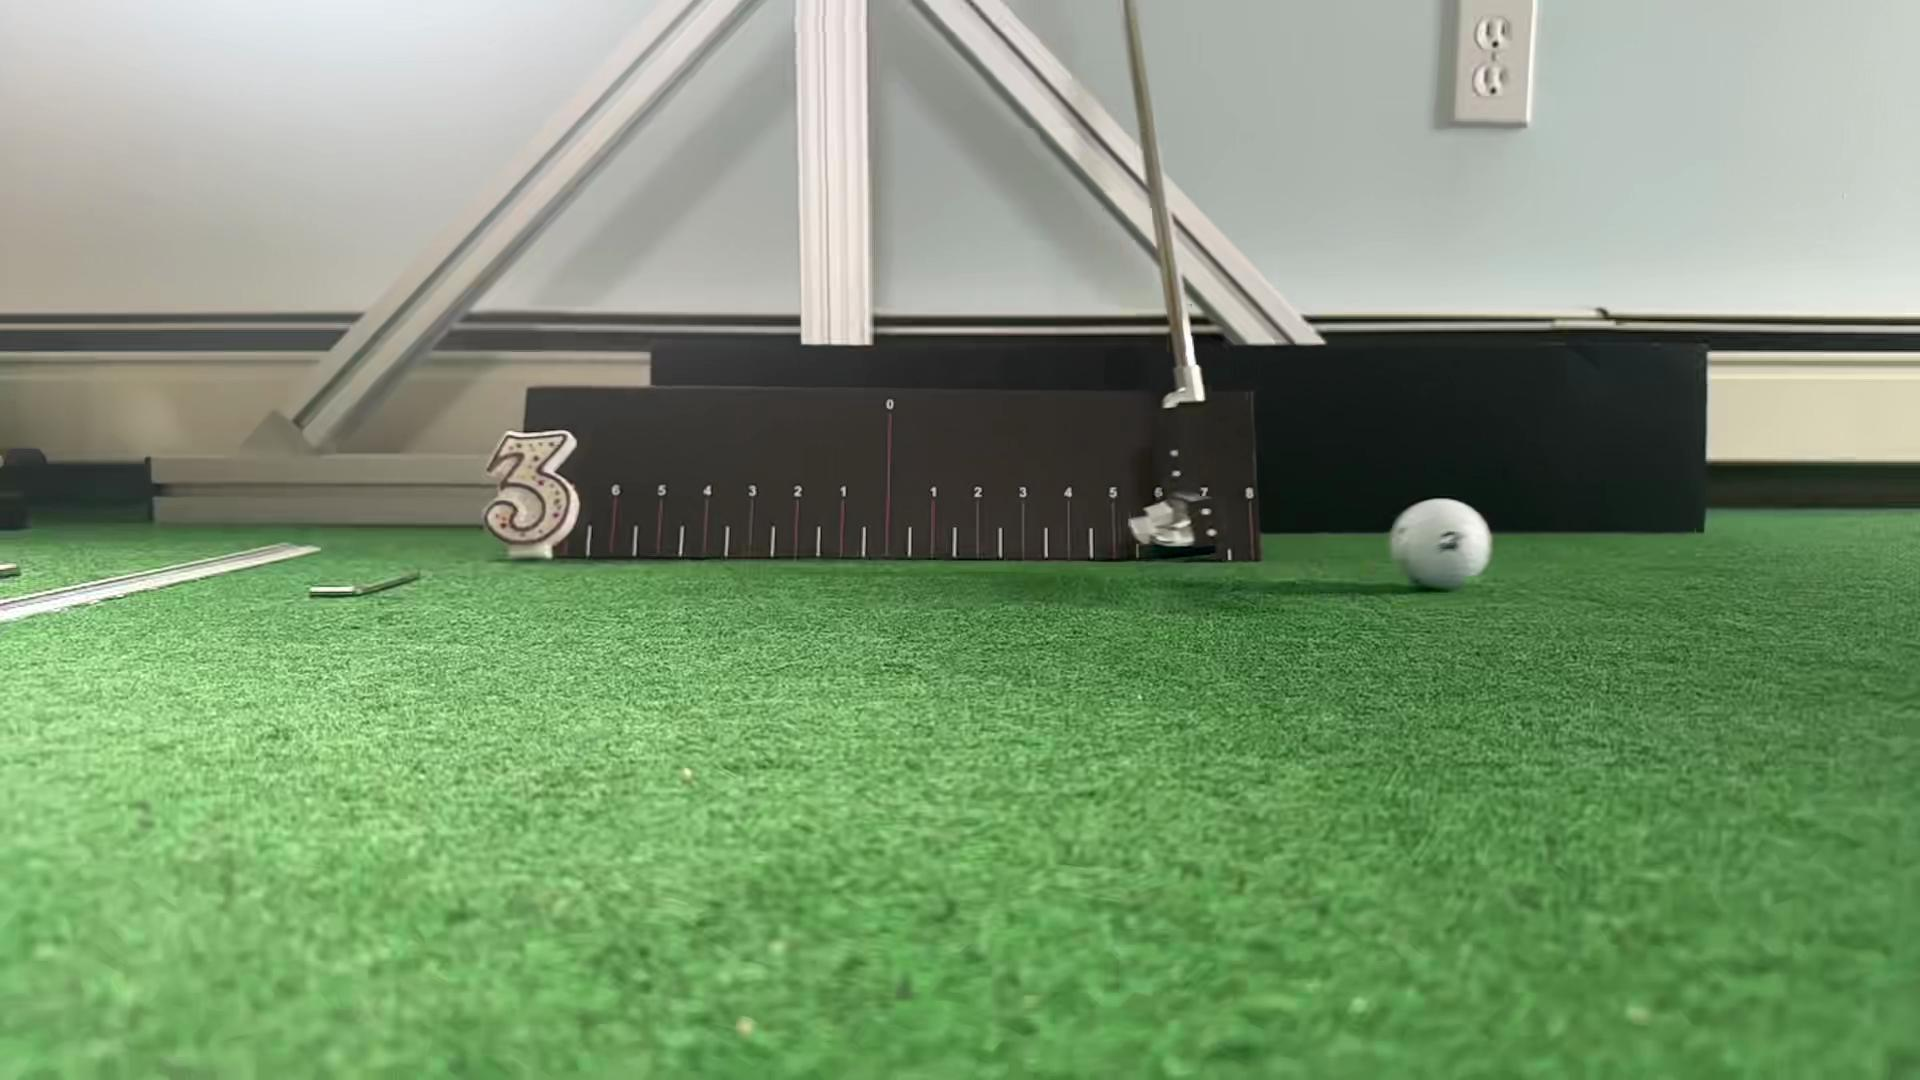golfball: (1392, 500, 1492, 590)
